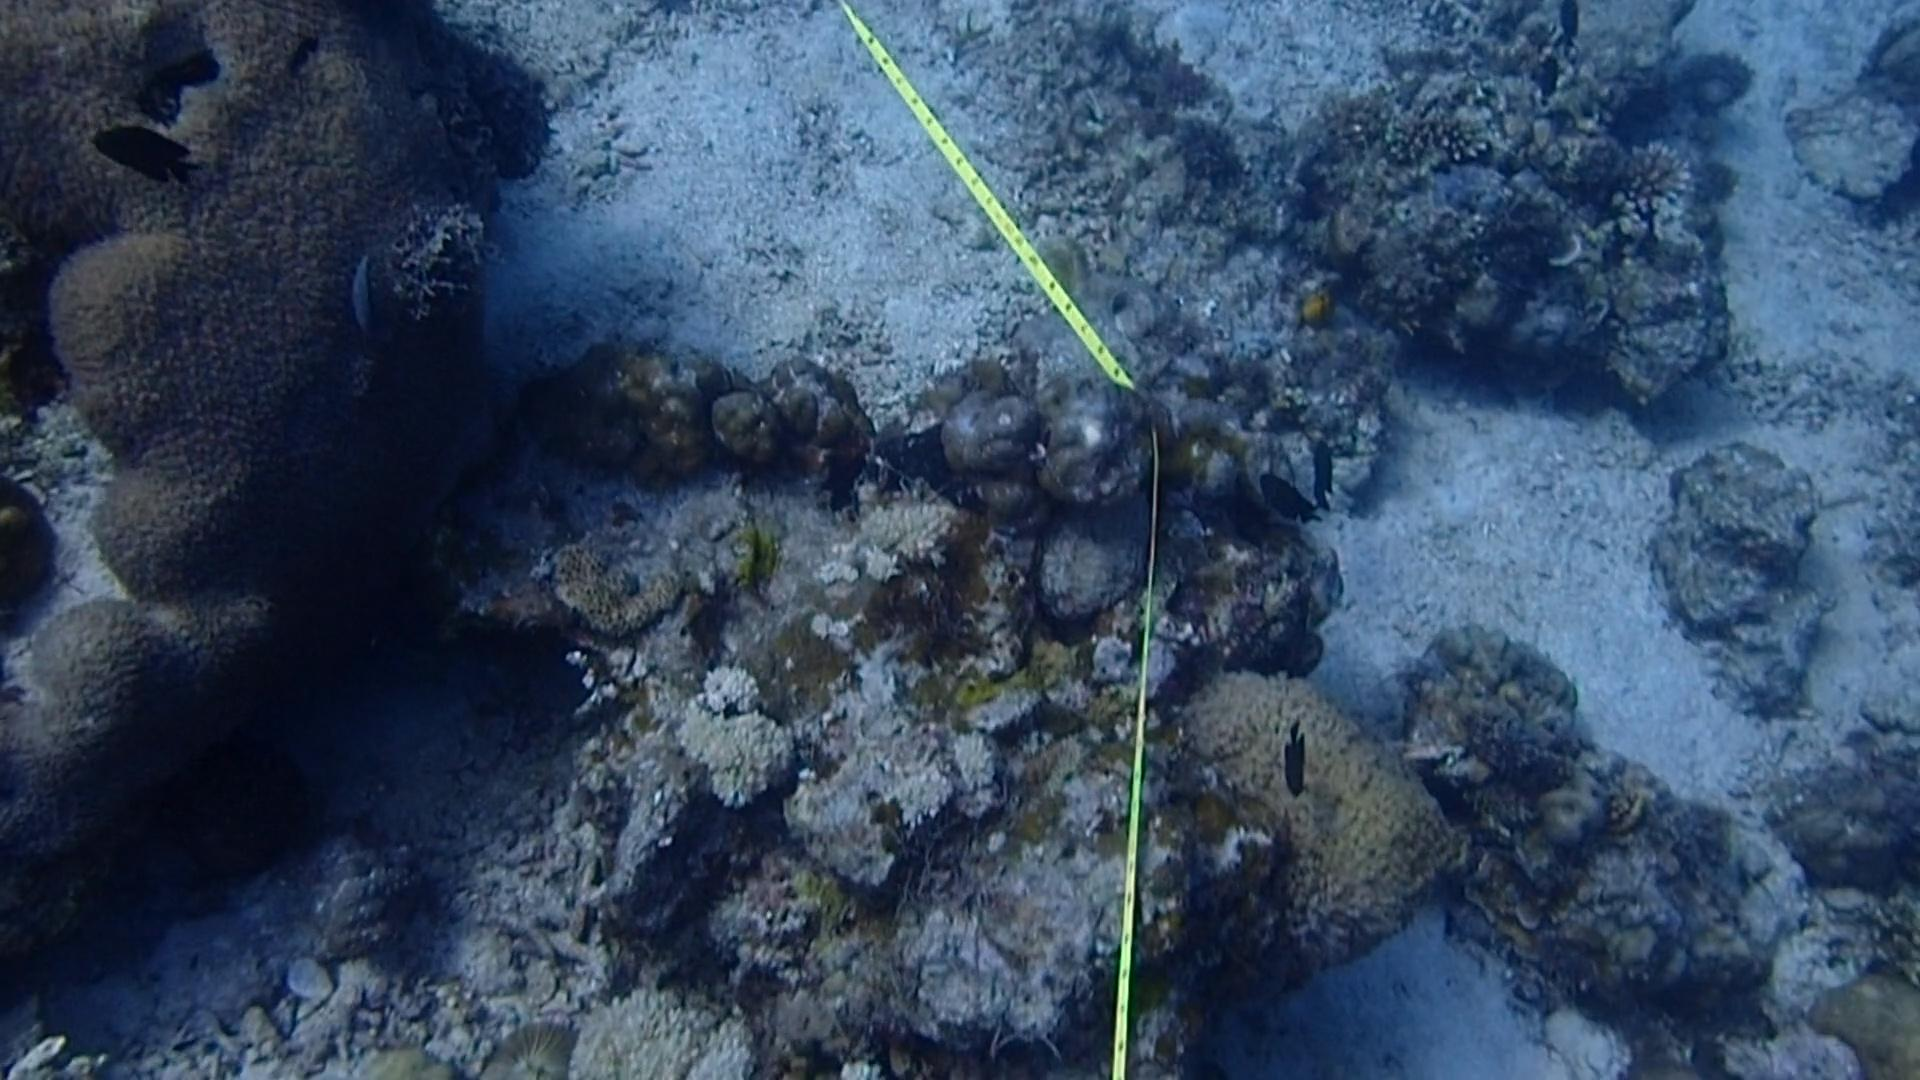Dark Fish: (83, 113, 216, 206), (1408, 742, 1489, 832), (1270, 716, 1331, 819), (1244, 459, 1319, 529), (1296, 429, 1344, 508), (1530, 44, 1578, 115), (268, 28, 331, 82), (1543, 0, 1601, 49)
Light Fish: (334, 245, 385, 334)
